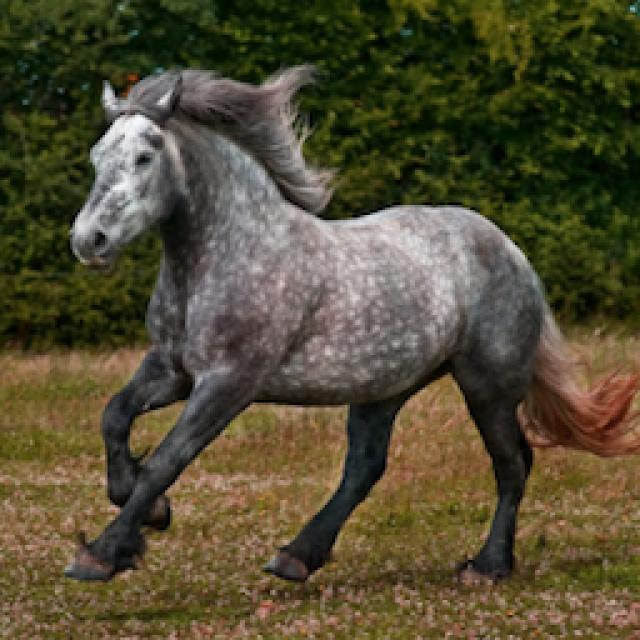Horse: (55, 55, 640, 593)
